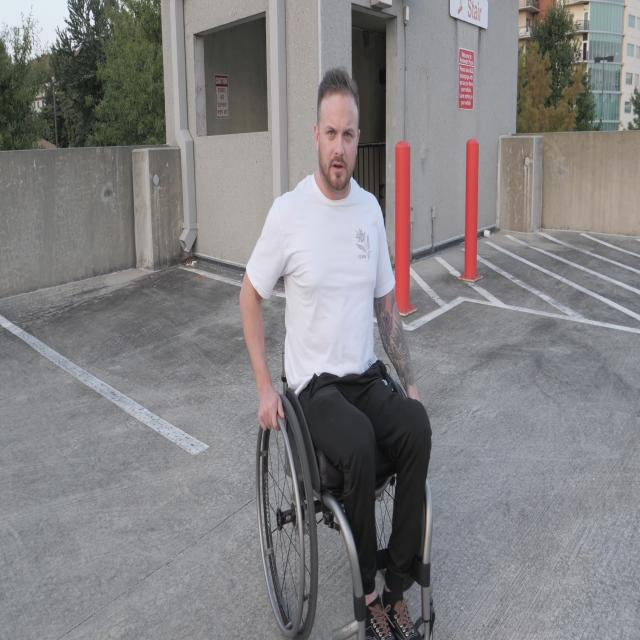wheelchairs: (254, 277, 435, 640)
